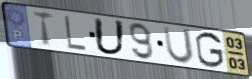9: (127, 21, 156, 61)
G: (193, 31, 226, 70)
L: (63, 14, 89, 53)
T: (32, 9, 56, 48)
U: (92, 16, 128, 57), (161, 25, 196, 67)
